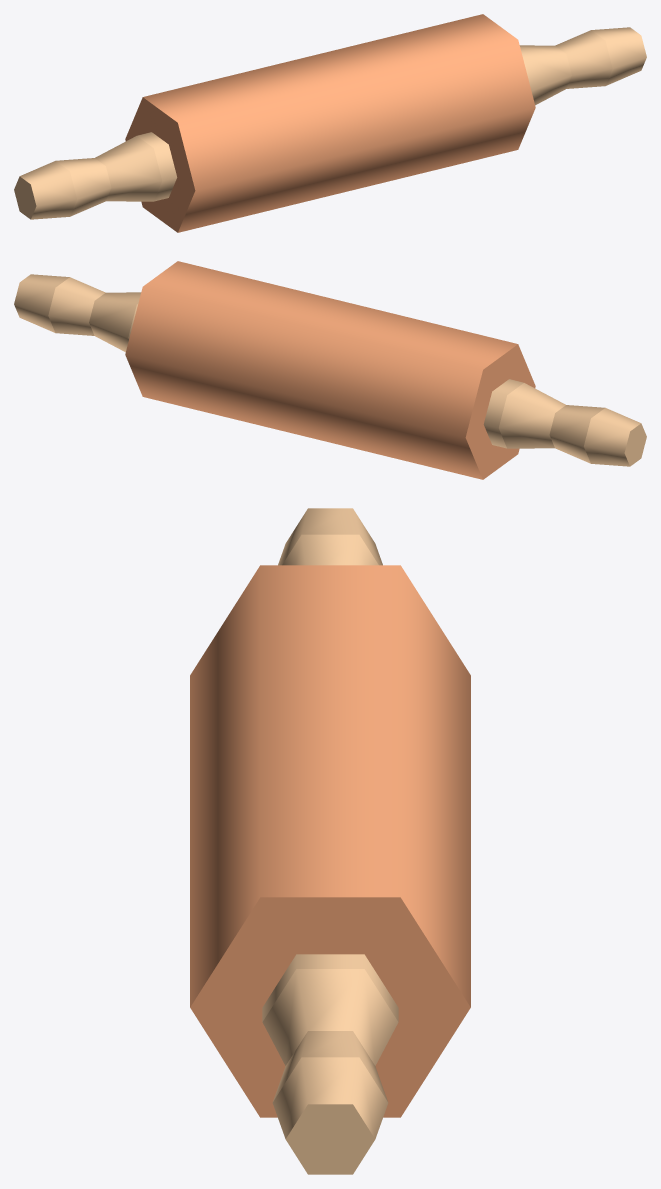
Rendered from rollingPin.obj.
3 renders of one model, top to bottom at view 1: azimuth 30°, elevation 25°; view 2: azimuth 150°, elevation 25°; view 3: azimuth 270°, elevation 25°, orthographic. The views are drawn at different scales.
Parts seen in each view (by area): view 1: rollingPin; view 2: rollingPin; view 3: rollingPin.
Part boxes in pixels (bbox=[...]): rollingPin: bbox=[14, 14, 646, 232]; rollingPin: bbox=[14, 261, 646, 479]; rollingPin: bbox=[190, 508, 470, 1174].
Size of the model in its own units: 0.8137 by 0.1403 by 0.162.
